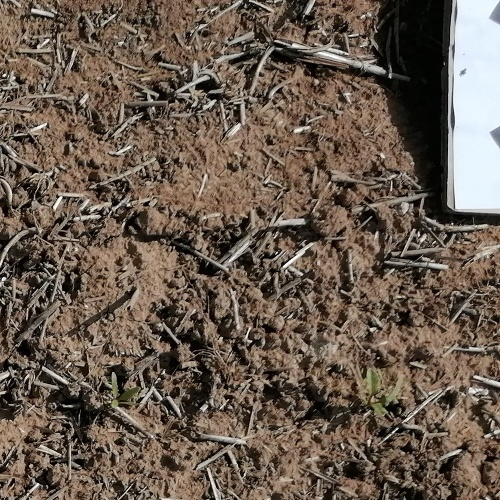beet: (367, 371, 404, 423), (108, 373, 140, 411)
